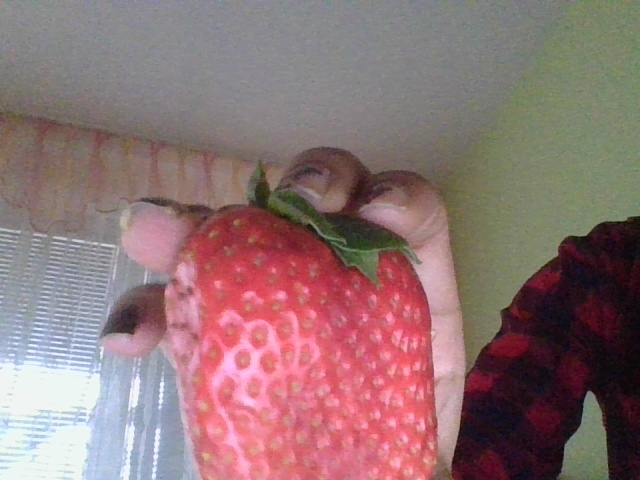ripe: (164, 210, 438, 480)
